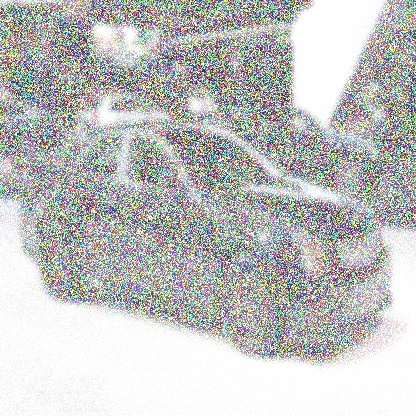Vehicle: (19, 123, 394, 357)
